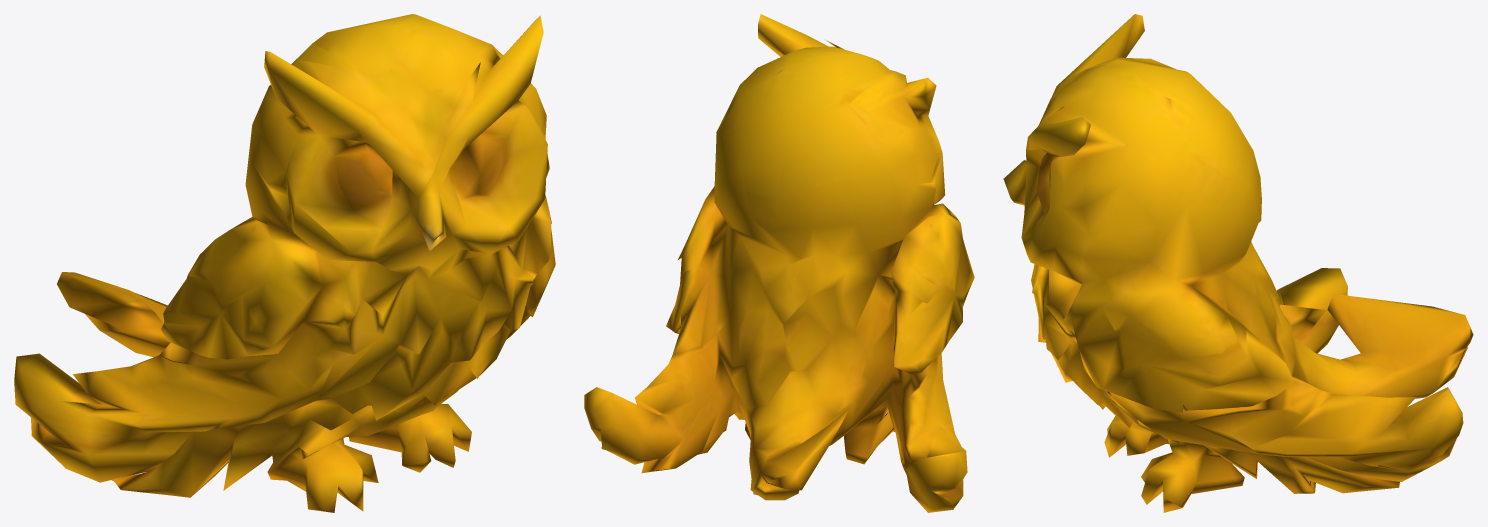
Rendered from golden-owl.glb.
3 renders of one model, left to right at view 1: azimuth 30°, elevation 25°; view 2: azimuth 150°, elevation 25°; view 3: azimuth 270°, elevation 25°, orthographic. The views are drawn at different scales.
Parts seen in each view (by area): view 1: tripo_node_6d21e257-37f8-4dd7-ac9e-fb5a48407651; view 2: tripo_node_6d21e257-37f8-4dd7-ac9e-fb5a48407651; view 3: tripo_node_6d21e257-37f8-4dd7-ac9e-fb5a48407651.
Part boxes in pixels (<box>): tripo_node_6d21e257-37f8-4dd7-ac9e-fb5a48407651: <box>14,14,555,512</box>; tripo_node_6d21e257-37f8-4dd7-ac9e-fb5a48407651: <box>584,14,974,512</box>; tripo_node_6d21e257-37f8-4dd7-ac9e-fb5a48407651: <box>1003,14,1473,512</box>.
Size of the model in its own units: 0.8788 by 0.943 by 0.979.
1 material, 1 textured.
